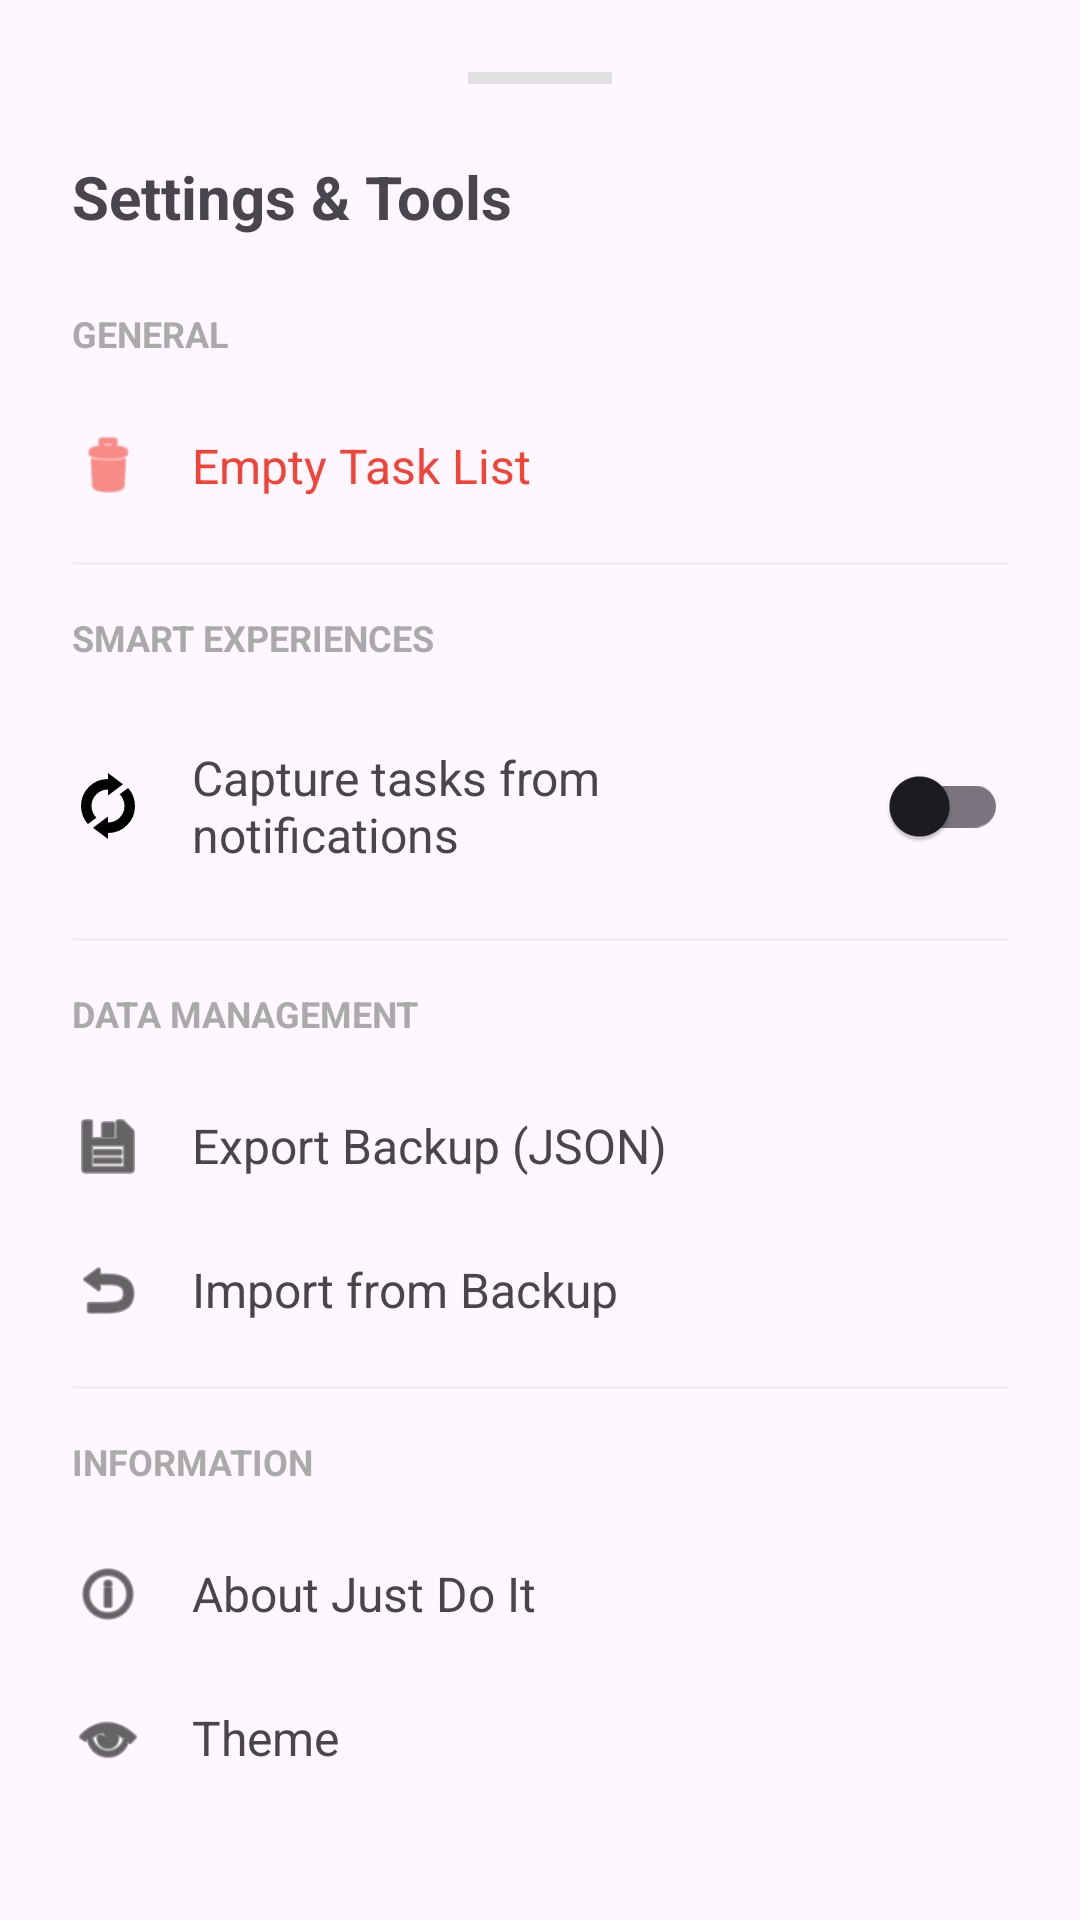

Icons on this 1080x1920 Android screen, each with the point to tap as point (x, y):
delete: point (108, 465)
info details: point (108, 1594)
popup sync: point (108, 806)
revert: point (109, 1290)
save: point (108, 1146)
view: point (108, 1739)
